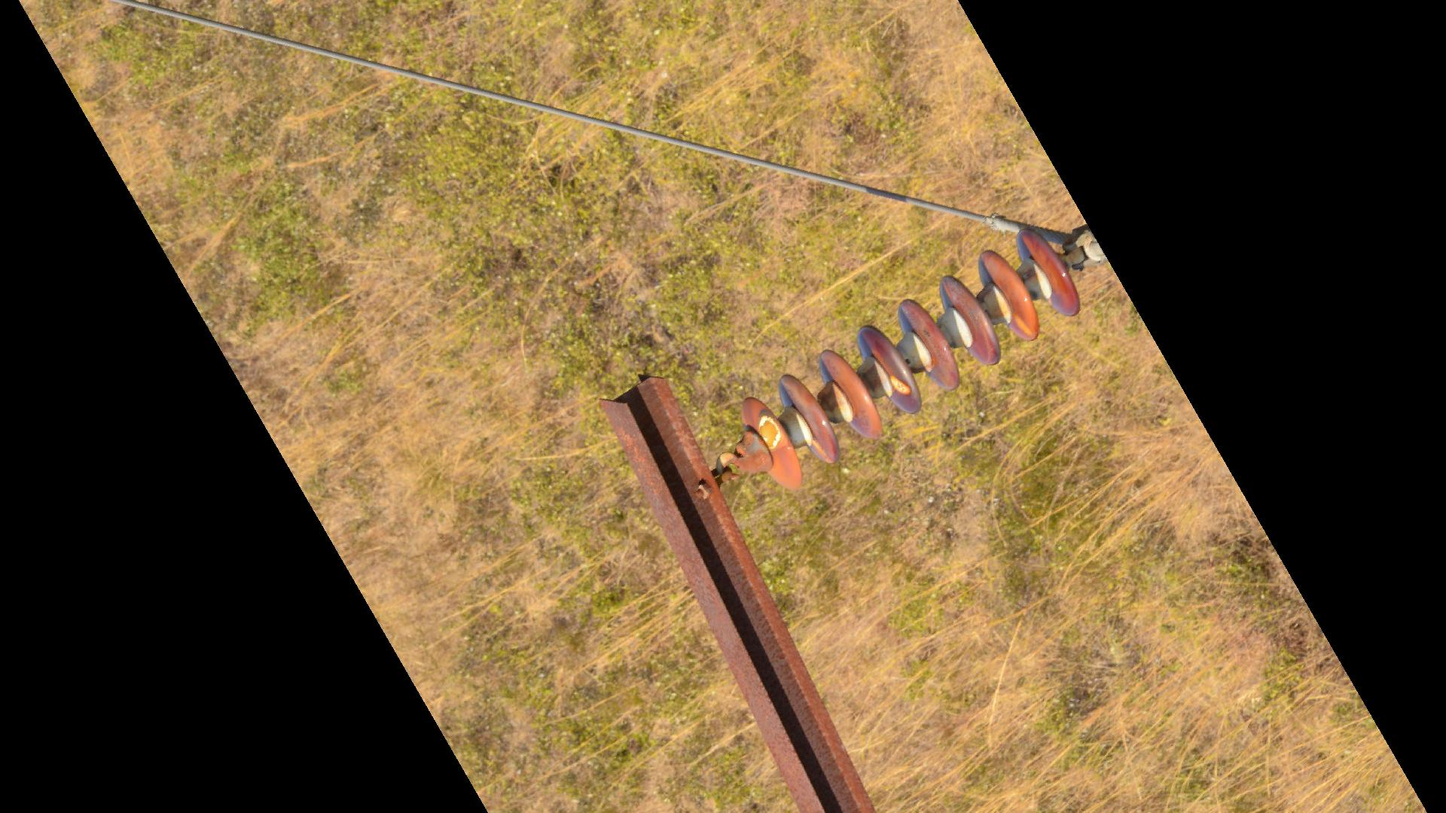insulator: (737, 221, 1085, 494)
insulator_flashover: (756, 407, 783, 451), (887, 373, 913, 398), (1014, 311, 1033, 338)
